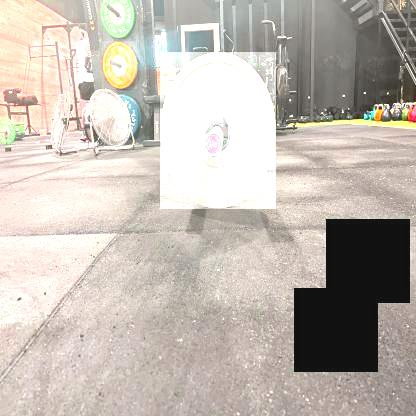barbell: (159, 52, 275, 210), (100, 41, 135, 90)
